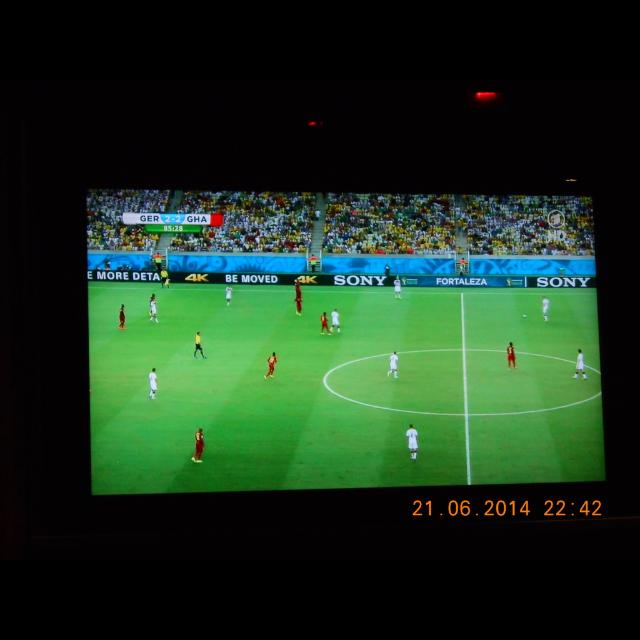Football: (522, 314, 526, 316)
